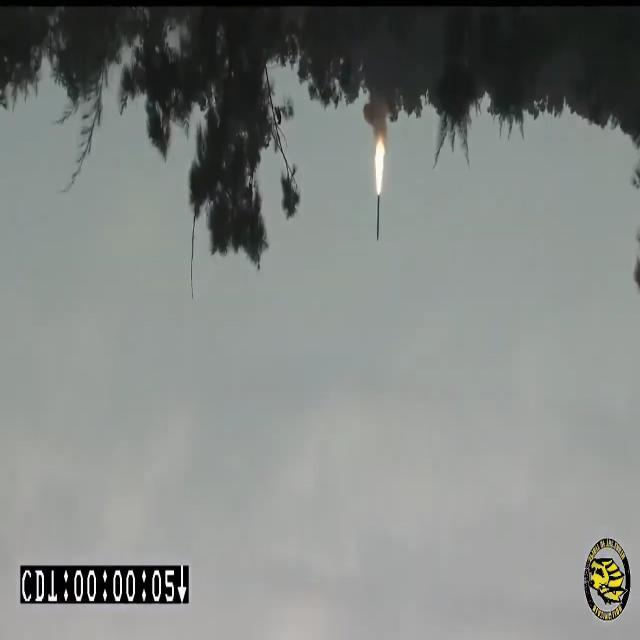Missile: (372, 190, 383, 246)
